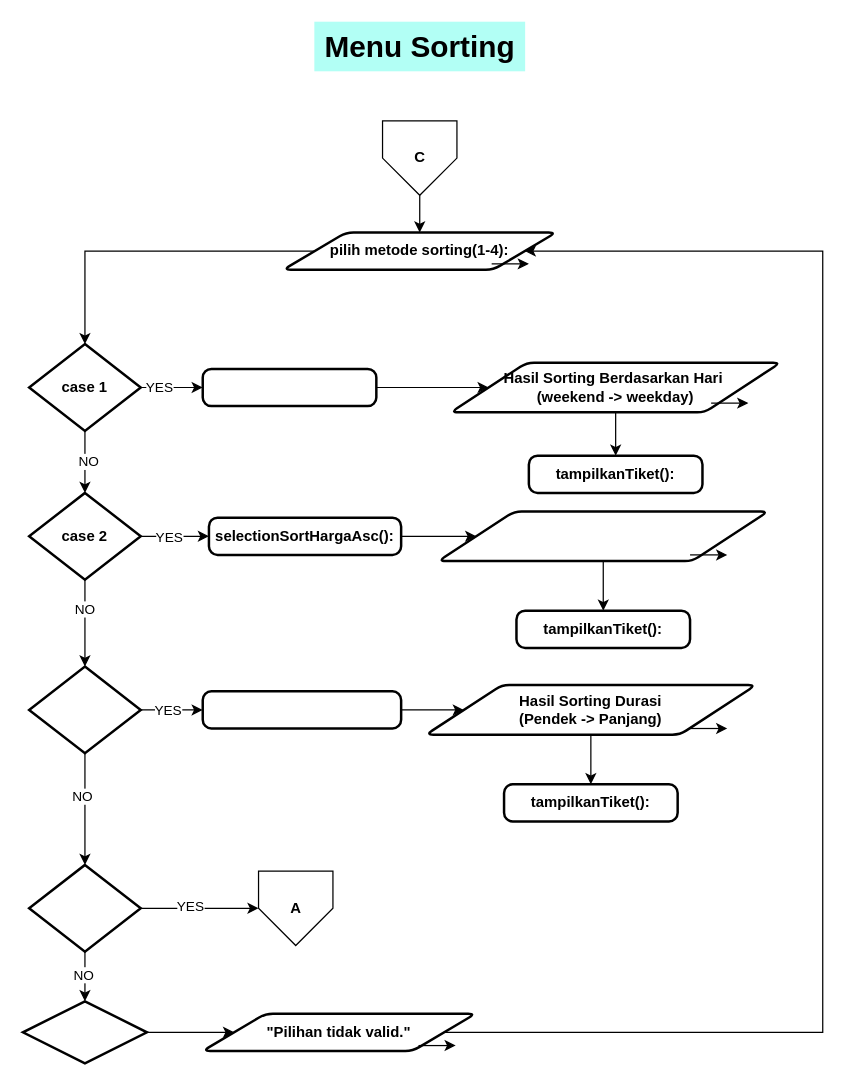
This 854x1085 diagram has some shape labels left out. The box of each missing label's shape, as (x1, y1, x2, y2) in pixels:
bubleSortHariDesc():: (201, 367, 377, 407)
case 3: (27, 665, 141, 754)
case 4: (27, 863, 141, 952)
default: (21, 999, 148, 1064)
Hasil Sorting Harga (Termurah -> Termahal): (436, 510, 769, 562)
insertionSortDurasiAsc():: (201, 689, 402, 729)
